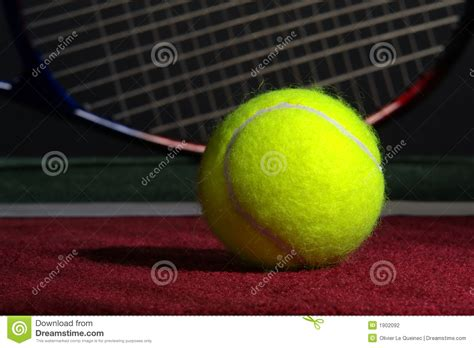tennis_ball: (196, 84, 388, 269)
